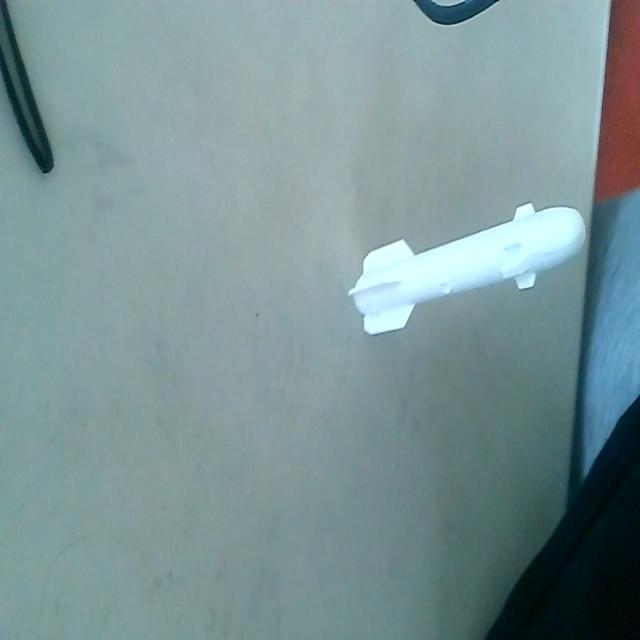Rocket: (343, 192, 587, 350)
